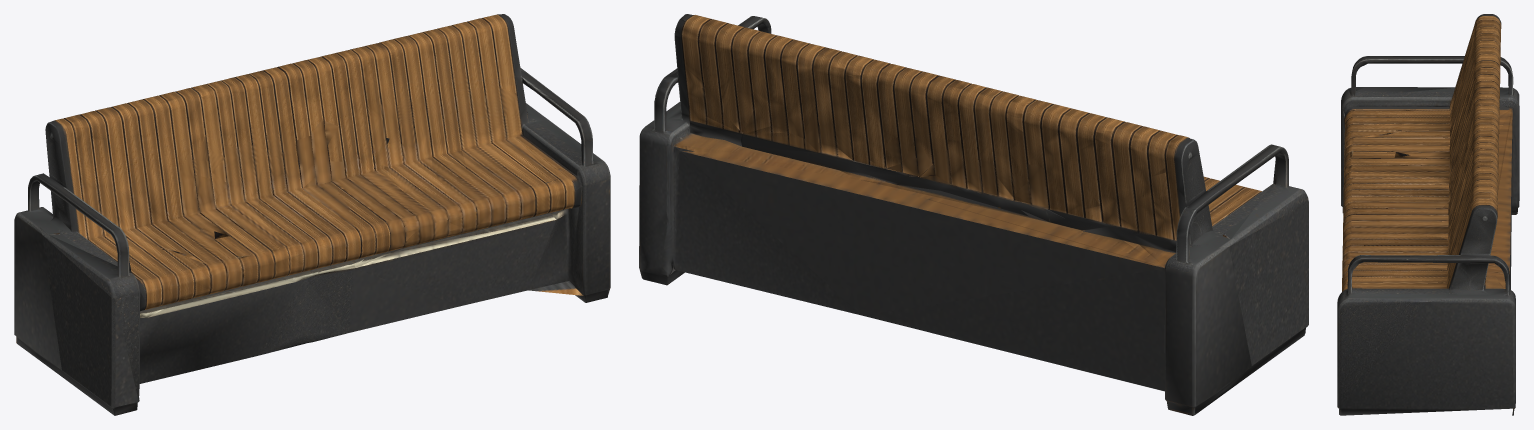
File: midori_2050_timber_bench.glb
The picture shows the model from 3 angles, left to right: view 1: azimuth 30°, elevation 25°; view 2: azimuth 150°, elevation 25°; view 3: azimuth 270°, elevation 25°; orthographic projection. The views are drawn at different scales.
Parts seen in each view (by area): view 1: Midori2050_TimberBench; view 2: Midori2050_TimberBench; view 3: Midori2050_TimberBench.
Part boxes in pixels (<box>): Midori2050_TimberBench: <box>14,14,610,415</box>; Midori2050_TimberBench: <box>639,14,1308,415</box>; Midori2050_TimberBench: <box>1337,14,1519,415</box>.
Bounding box in the file's own units: 2.25 × 0.98 × 0.8098.
Materials: 1 (1 with a texture image).
